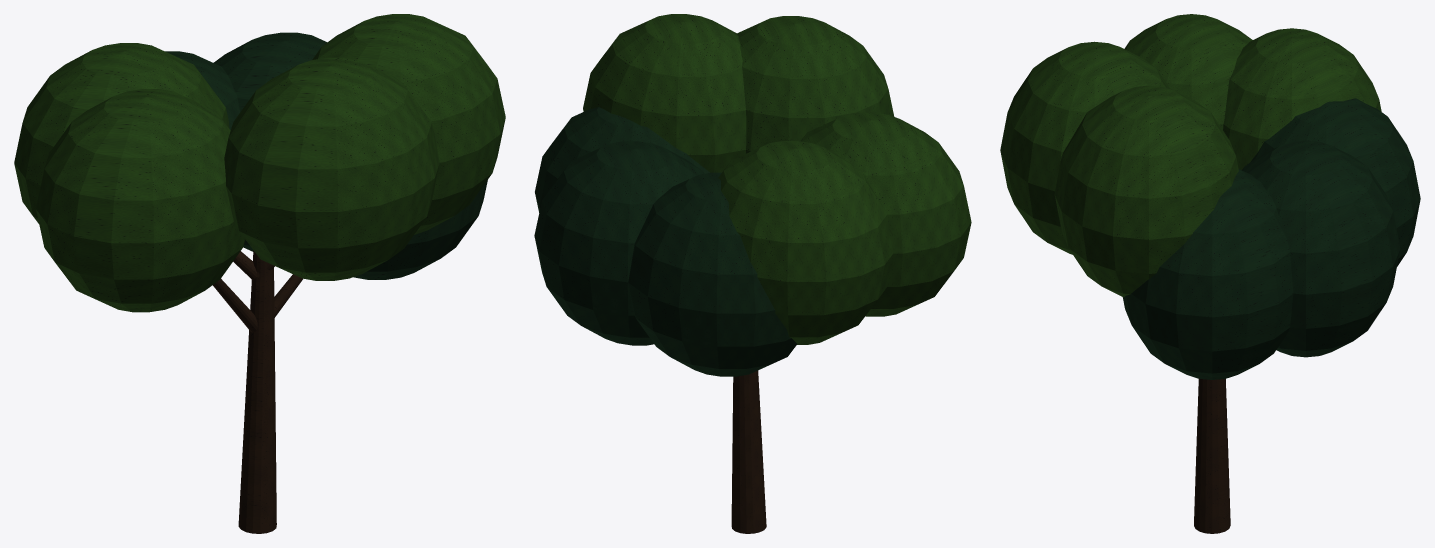
Rendered from PROP-DCC6991263C1_lod0.glb.
3 views of the same model, side by side, from view 1: azimuth 30°, elevation 25°; view 2: azimuth 150°, elevation 25°; view 3: azimuth 270°, elevation 25° (orthographic). The views are drawn at different scales.
Parts seen in each view (by area): view 1: leaf_crown.041, leaf_crown.040, trunk.042, branch.024; view 2: leaf_crown.041, leaf_crown.040, trunk.042; view 3: leaf_crown.041, leaf_crown.040, trunk.042.
Part boxes in pixels (x1=…): leaf_crown.041: x1=14, y1=14, x2=505, y2=312; leaf_crown.040: x1=165, y1=32, x2=487, y2=279; trunk.042: x1=238, y1=250, x2=276, y2=533; branch.024: x1=213, y1=251, x2=302, y2=332; leaf_crown.041: x1=583, y1=14, x2=971, y2=344; leaf_crown.040: x1=534, y1=107, x2=797, y2=376; trunk.042: x1=731, y1=370, x2=766, y2=533; leaf_crown.041: x1=1000, y1=14, x2=1381, y2=297; leaf_crown.040: x1=1122, y1=98, x2=1420, y2=379; trunk.042: x1=1194, y1=378, x2=1230, y2=533.
Size of the model in its own units: 6.36 by 6.88 by 5.47.
3 materials, 3 textured.
